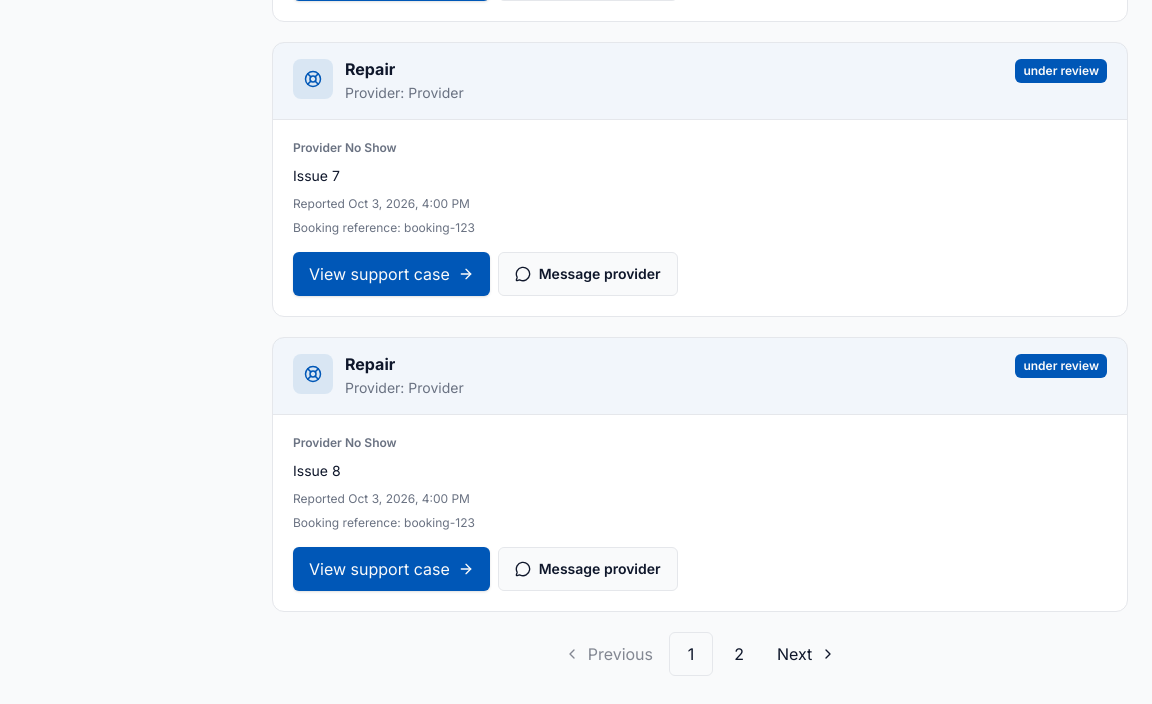
participant case notification destination › pages member cases and returns to the first page after a search
(page scrolled)
Check: the text "Issue 9" is not shown
Click the button named "Page 2" at (739, 654), box [717,632,761,676]
(page scrolled)
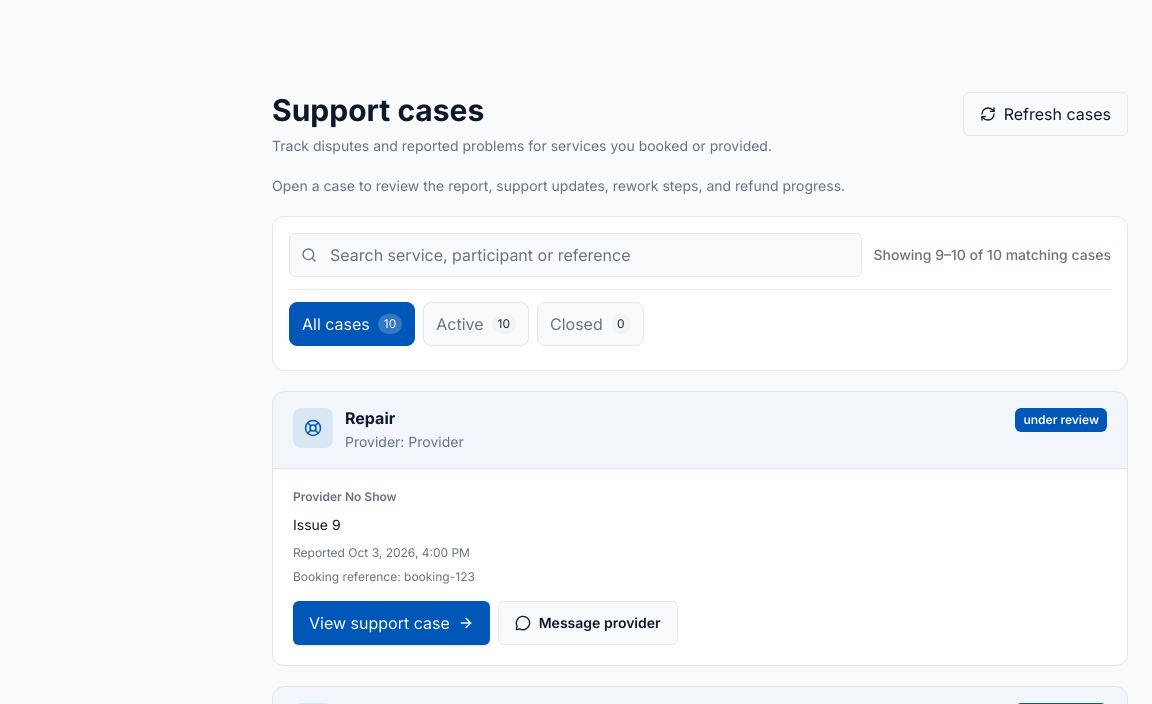
Check: the text "Issue 9" is shown, box [293,516,341,533]
Type "Issue 1" into the search field named "Search support cases" at (575, 255), box [289,233,862,277]
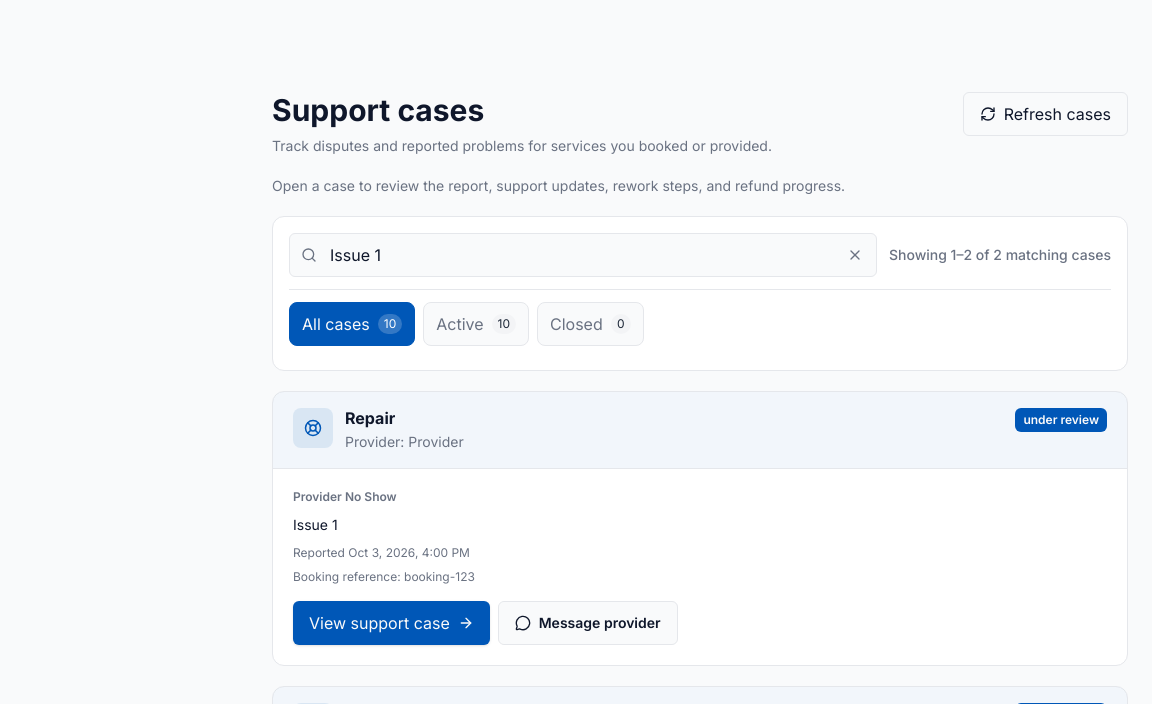
Check: the text "Issue 1" is shown, box [293,516,338,533]
